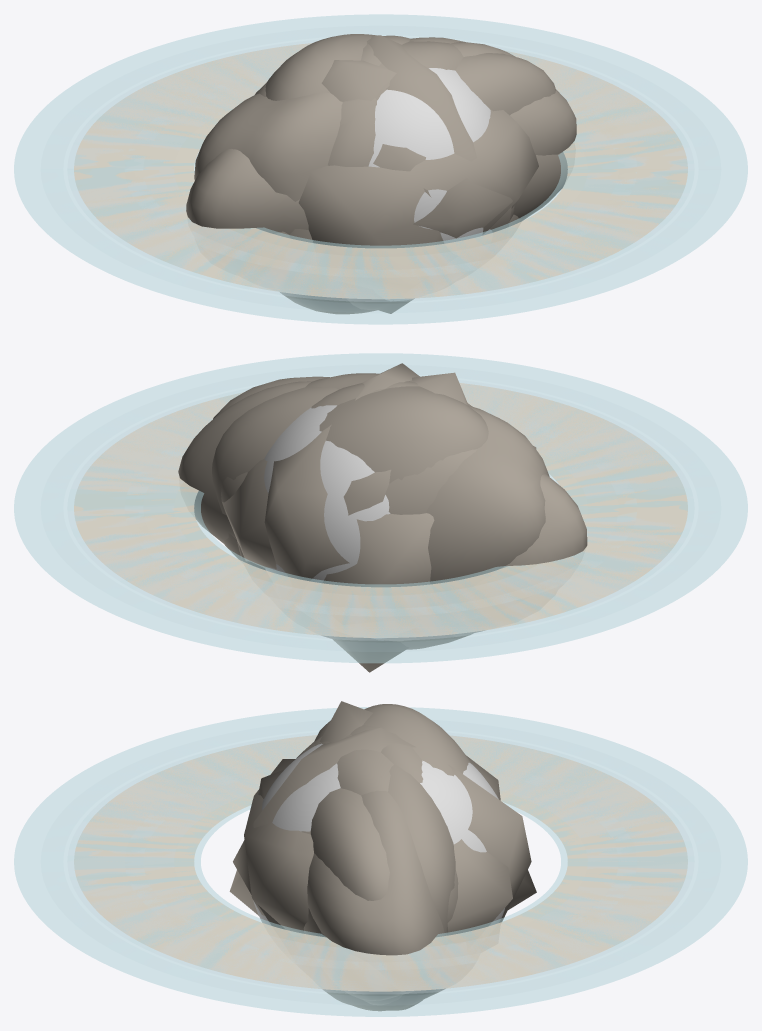
File: models.glb
The picture shows the model from 3 angles, top to bottom: view 1: azimuth 30°, elevation 25°; view 2: azimuth 150°, elevation 25°; view 3: azimuth 270°, elevation 25°; orthographic projection.
Visible parts, largest first — view 1: UranusRings, SaturnRings, RheaDustRing, asteroidRock2, irregularNix, irregularHydra, asteroidRock3, icySphere, irregularPhobos, UranusInnerRings, irregularHiiaka, asteroidRock1 (+3 smaller); view 2: UranusRings, SaturnRings, RheaDustRing, irregularNix, irregularPhobos, asteroidRock2, asteroidRock3, irregularHydra, icySphere, irregularKerberos, irregularDeimos, UranusInnerRings (+3 smaller); view 3: UranusRings, SaturnRings, RheaDustRing, irregularHydra, asteroidRock2, asteroidRock3, irregularNix, irregularPhobos, icySphere, irregularKerberos, UranusInnerRings, irregularHiiaka (+2 smaller).
Part boxes in pixels (x1,y1,x2,y2): UranusRings: (14,14,747,324); SaturnRings: (74,43,687,299); RheaDustRing: (68,38,694,301); asteroidRock2: (298,110,538,248); irregularNix: (194,53,555,314); irregularHydra: (186,42,576,234); asteroidRock3: (368,35,512,238); icySphere: (368,68,492,300); irregularPhobos: (265,34,517,209); UranusInnerRings: (125,73,636,276); irregularHiiaka: (327,35,492,166); asteroidRock1: (321,42,437,313); UranusRings: (14,353,747,663); SaturnRings: (74,383,687,637); RheaDustRing: (68,380,692,640); irregularNix: (213,376,549,649); irregularPhobos: (305,373,488,641); asteroidRock2: (222,446,536,587); asteroidRock3: (264,363,419,581); irregularHydra: (178,381,587,636); icySphere: (264,405,390,638); irregularKerberos: (212,386,338,560); irregularDeimos: (379,403,476,641); UranusInnerRings: (125,413,636,616); UranusRings: (14,707,747,1016); SaturnRings: (74,735,687,991); RheaDustRing: (67,732,694,993); irregularHydra: (307,790,446,991); asteroidRock2: (229,759,536,935); asteroidRock3: (233,727,531,929); irregularNix: (311,720,458,1010); irregularPhobos: (319,704,470,1011); icySphere: (253,743,504,925); irregularKerberos: (303,764,455,1000); UranusInnerRings: (126,769,635,969); irregularHiiaka: (296,725,423,834).
Size of the model in its own units: 5.5 by 2.28 by 5.5.
